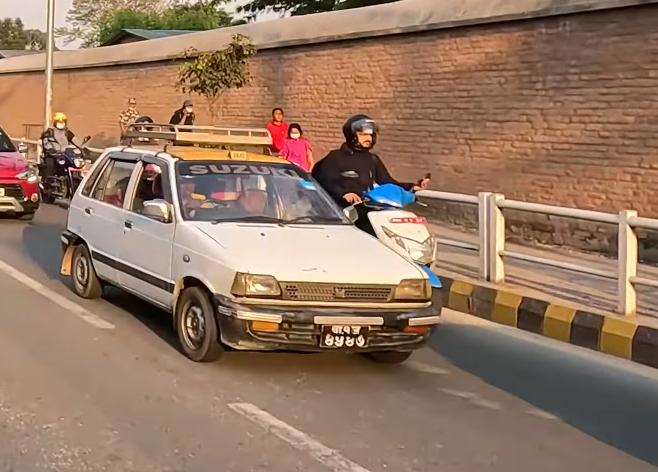bike: (38, 127, 99, 202)
car: (0, 115, 44, 229)
scooter: (336, 163, 454, 329)
taxi: (55, 114, 436, 394)
